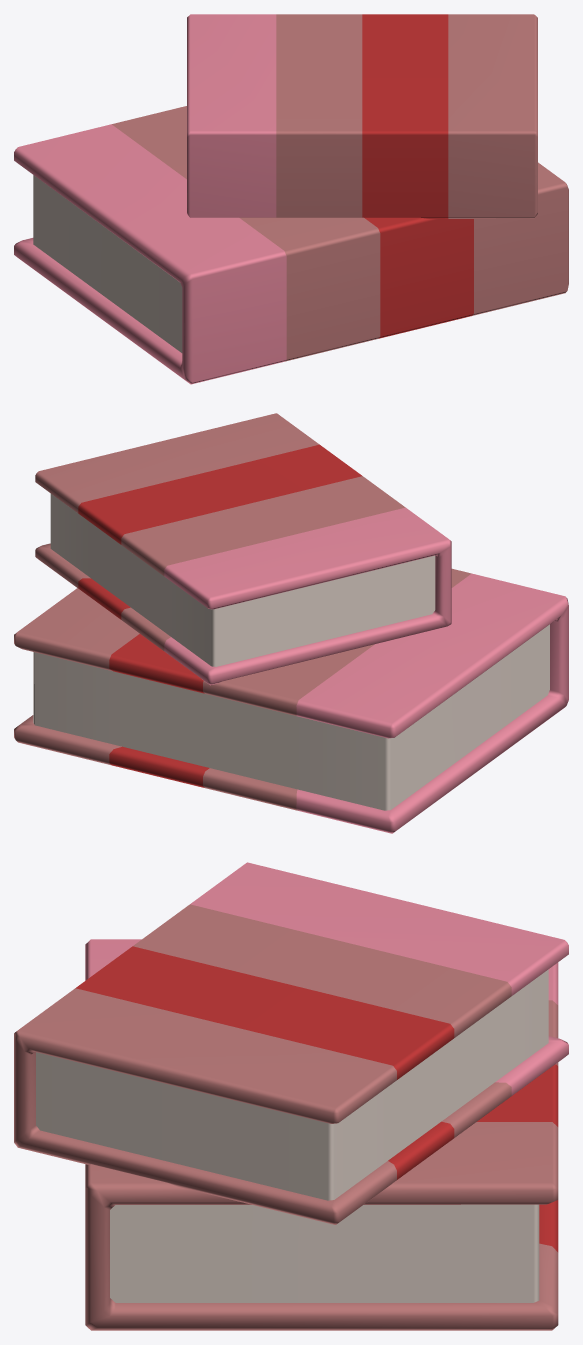
Rendered from Books_9.glb.
3 views of the same model, one above another, from view 1: azimuth 30°, elevation 25°; view 2: azimuth 150°, elevation 25°; view 3: azimuth 270°, elevation 25° (orthographic). The views are drawn at different scales.
Parts seen in each view (by area): view 1: Books_9; view 2: Books_9; view 3: Books_9.
Boxes of the visible parts, x1,y1,x2,y2 form: Books_9: (14,14,568,384); Books_9: (14,413,568,833); Books_9: (14,862,568,1330).
Size of the model in its own units: 0.3622 by 0.1543 by 0.2958.
1 material, 1 textured.
